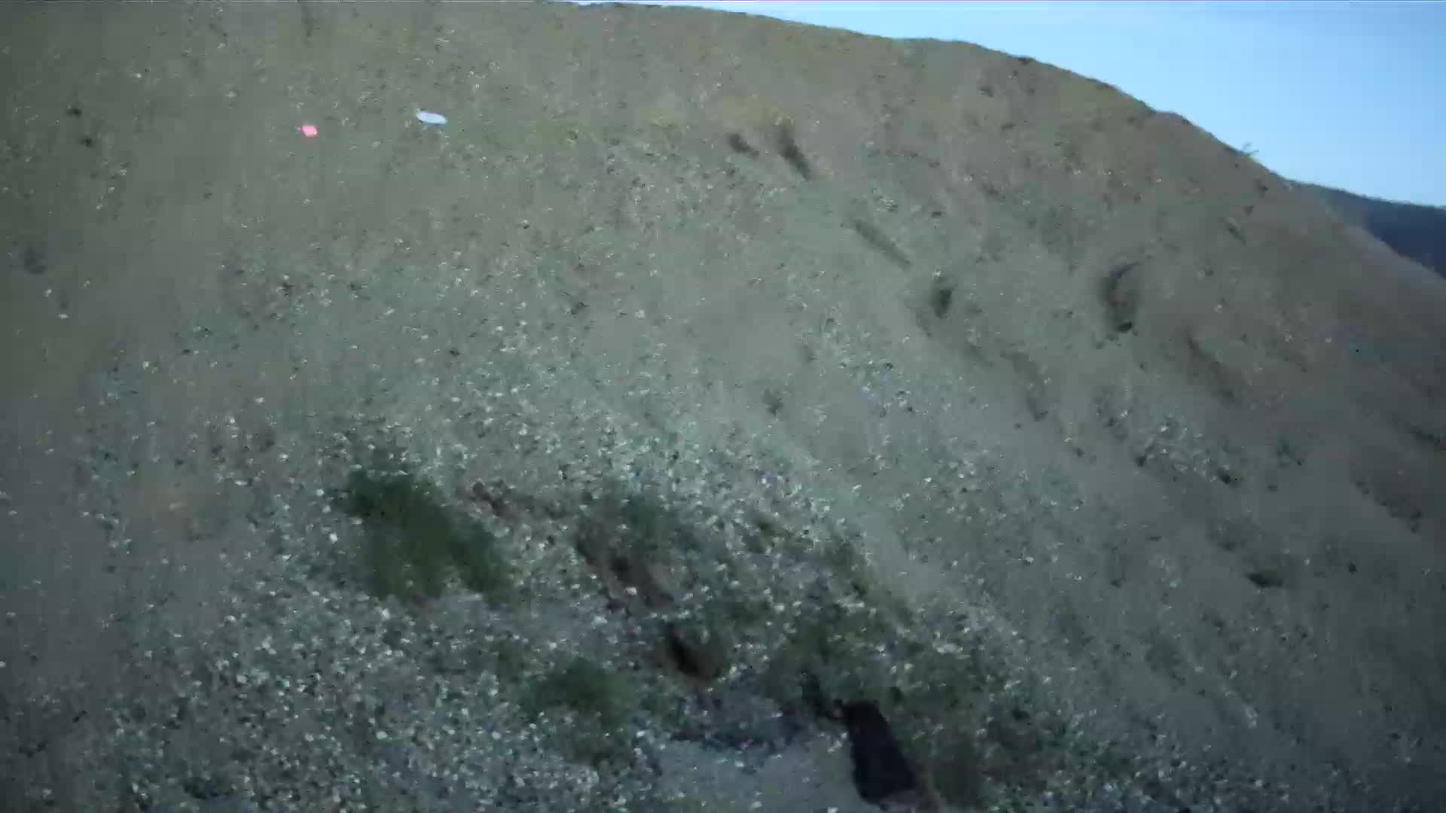Target: (416, 112, 446, 124)
